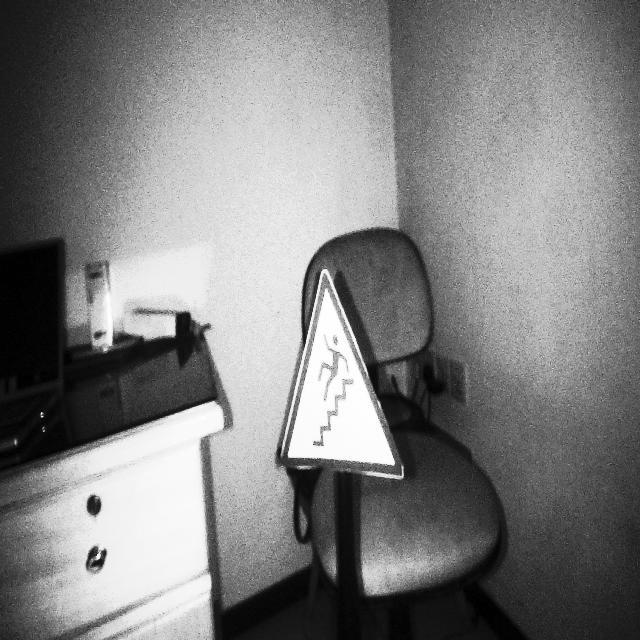Sign: (279, 267, 405, 483)
